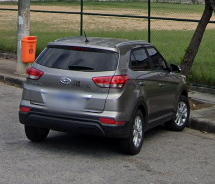car: (18, 35, 189, 155)
